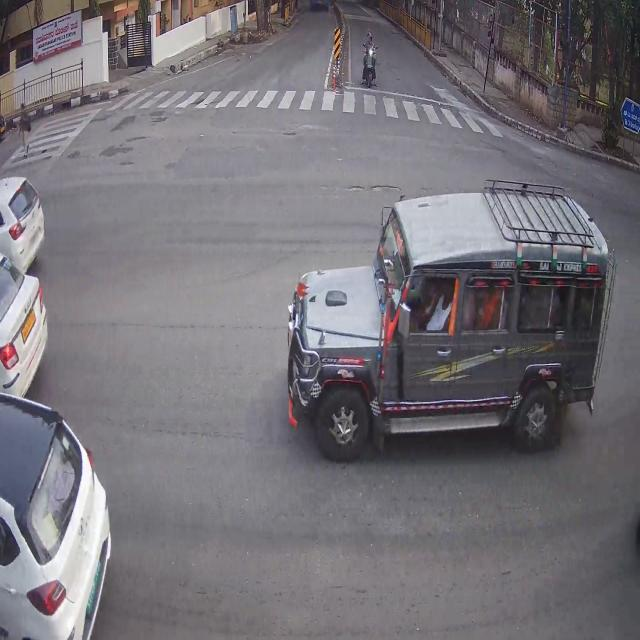Car: (307, 220, 605, 427), (7, 412, 111, 640), (0, 261, 43, 406), (4, 172, 44, 261)
Two-wheelers: (359, 37, 383, 87)
